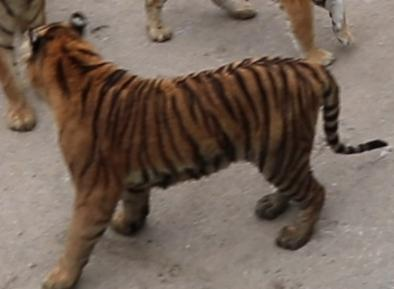tiger: (24, 22, 386, 288)
